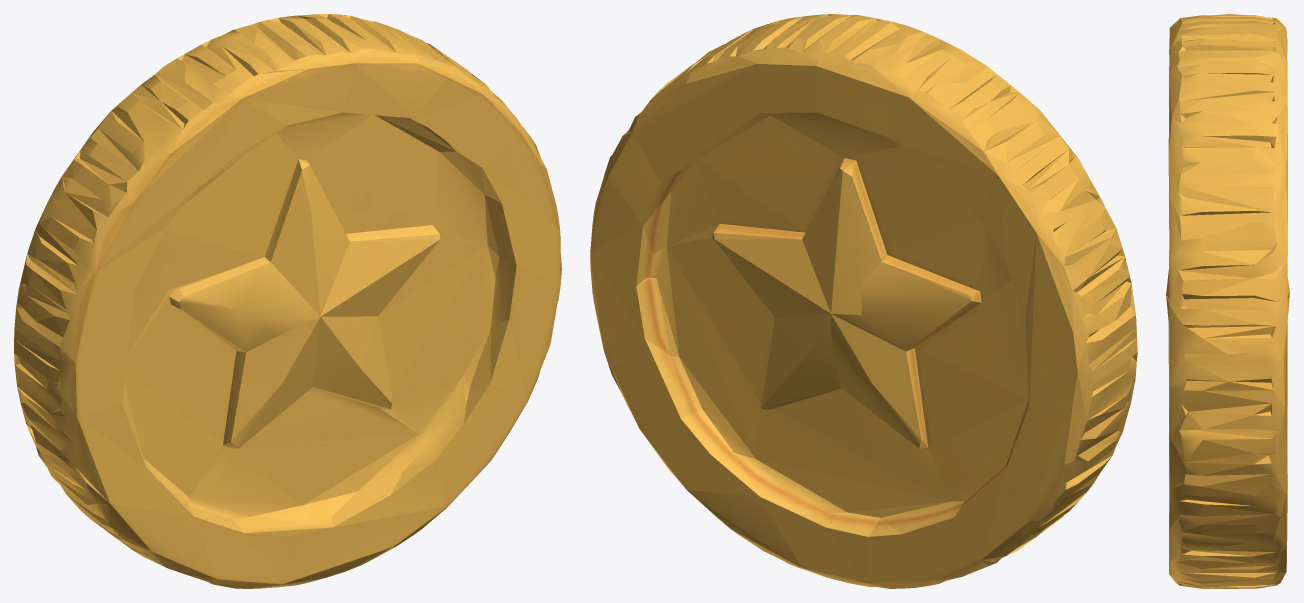
File: coin.glb
The picture shows the model from 3 angles, left to right: view 1: azimuth 30°, elevation 25°; view 2: azimuth 150°, elevation 25°; view 3: azimuth 270°, elevation 25°; orthographic projection. The views are drawn at different scales.
Bounding box in the file's own units: 0.6 × 0.5993 × 0.1295.
1 material, 1 textured.
